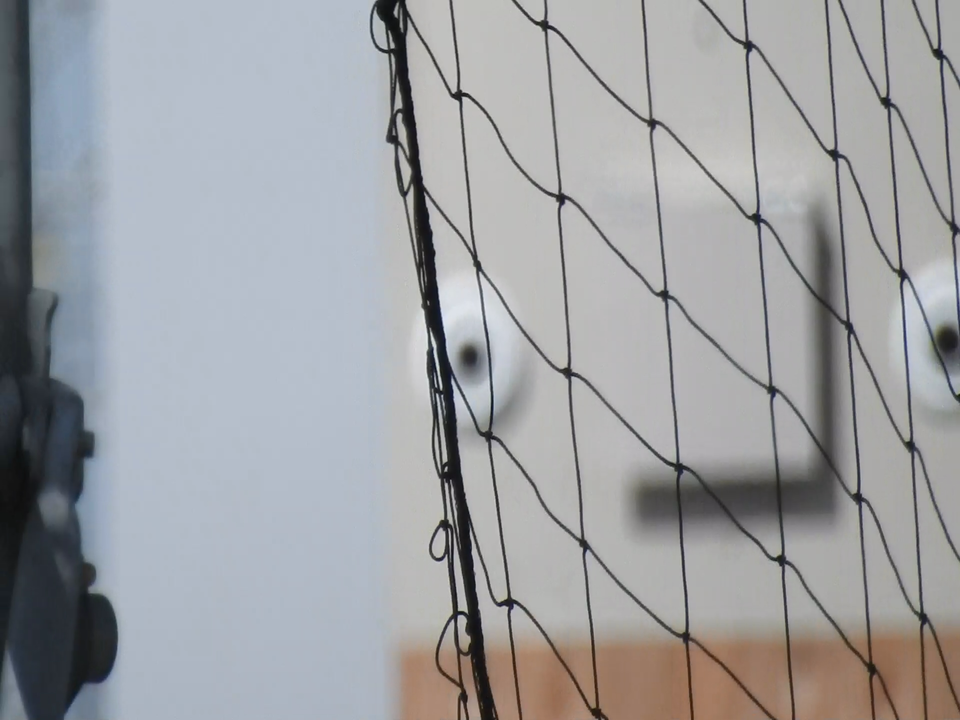facade: (404, 182, 960, 493)
